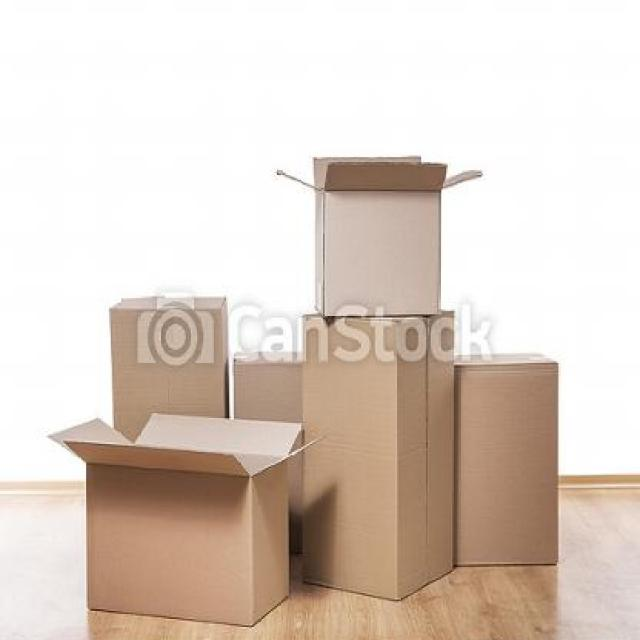box: (50, 398, 298, 640), (301, 310, 457, 599), (458, 340, 592, 580), (288, 145, 455, 318), (90, 276, 230, 456)
